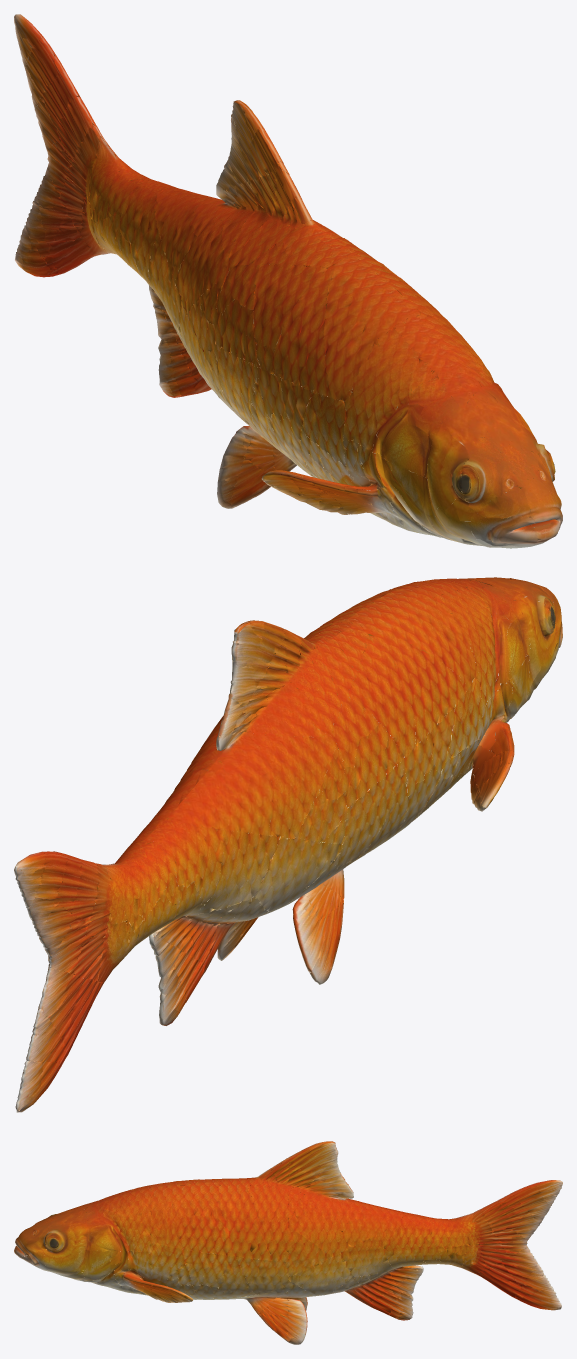
Rendered from orfa.glb.
The picture shows the model from 3 angles, top to bottom: view 1: azimuth 30°, elevation 25°; view 2: azimuth 150°, elevation 25°; view 3: azimuth 270°, elevation 25°; orthographic projection. The views are drawn at different scales.
Parts seen in each view (by area): view 1: Mesh_0; view 2: Mesh_0; view 3: Mesh_0.
Part boxes in pixels (x1,y1,x2,y2): Mesh_0: (14,14,562,548); Mesh_0: (14,577,562,1112); Mesh_0: (14,1141,562,1344).
Size of the model in its own units: 0.4772 by 0.7294 by 1.9.
1 material, 1 textured.
